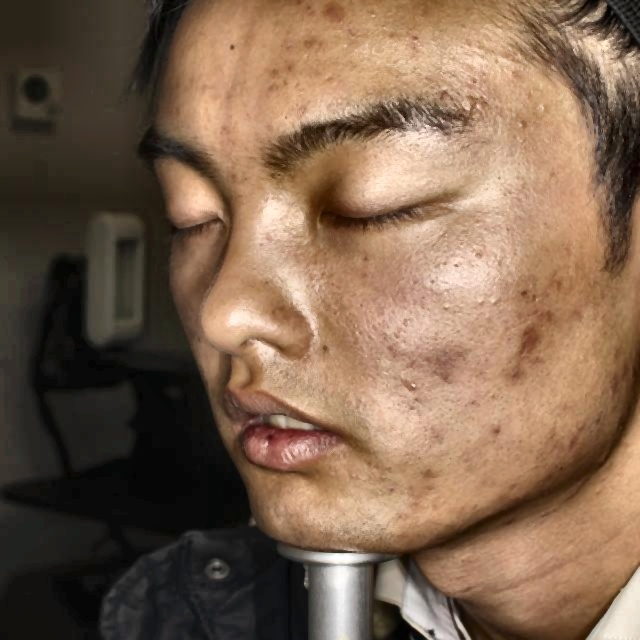comedone: (412, 466, 448, 495), (503, 358, 528, 396), (520, 323, 546, 353)
